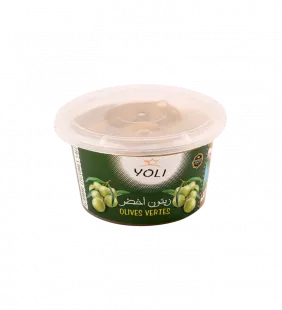YOLI: (44, 75, 236, 235)
